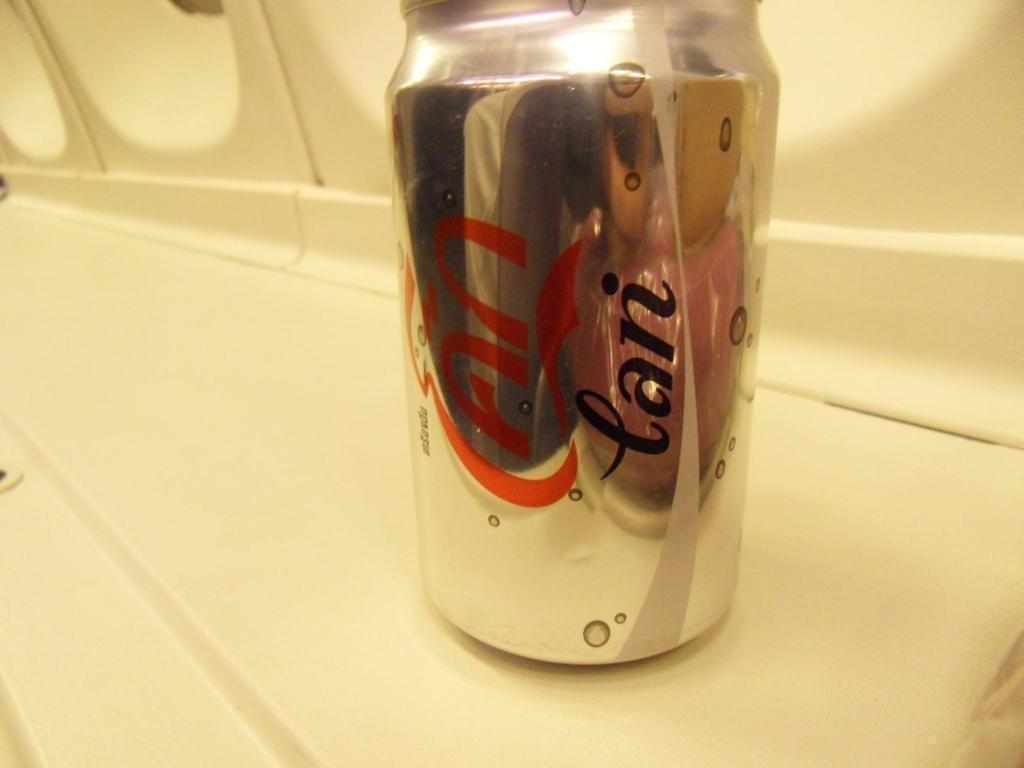tin can: (382, 0, 782, 680)
